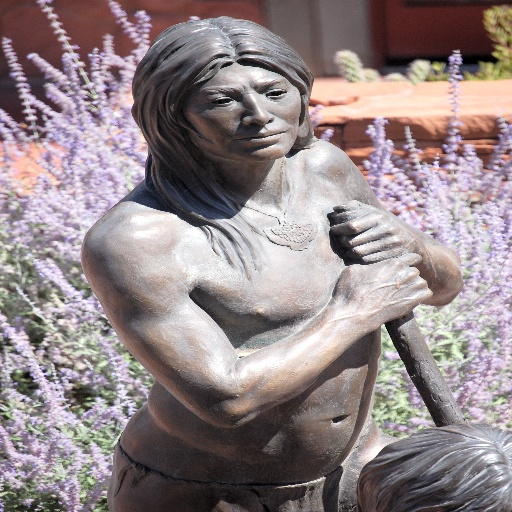hand: (317, 200, 428, 277), (330, 249, 436, 325)
